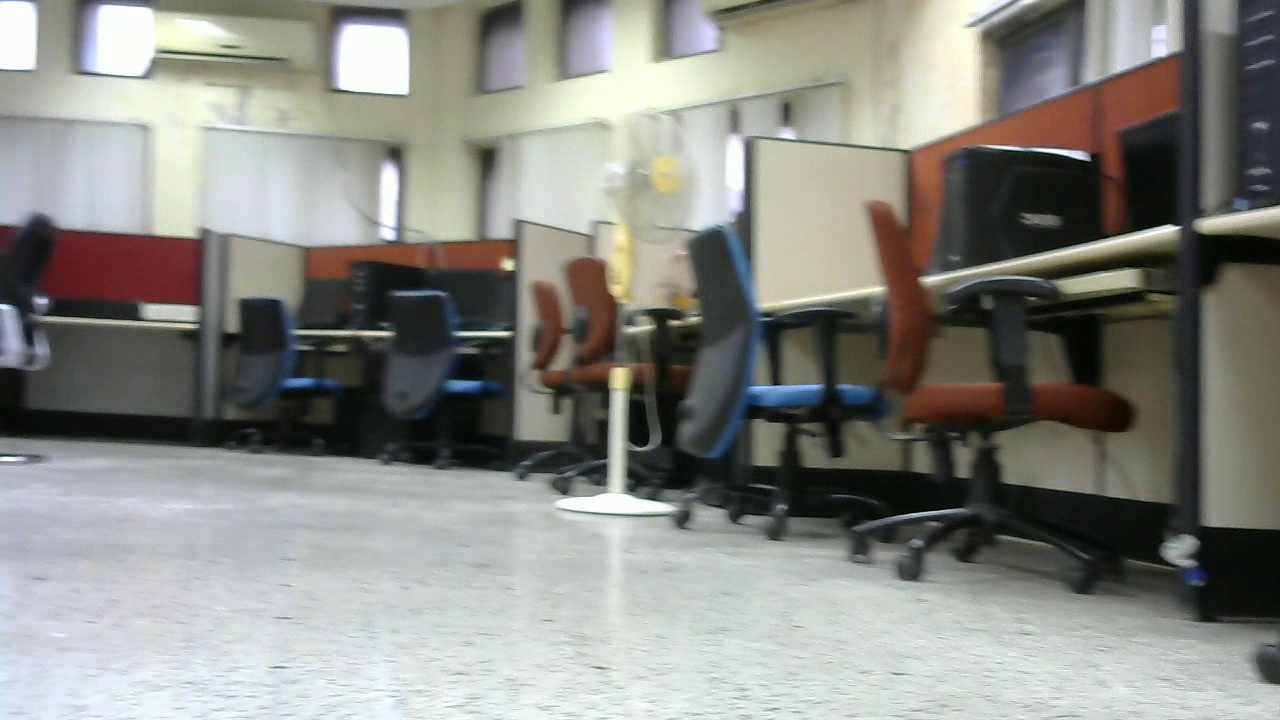chair: (849, 200, 1139, 605), (667, 226, 882, 531), (508, 255, 701, 505), (375, 285, 514, 473), (219, 298, 356, 458)
